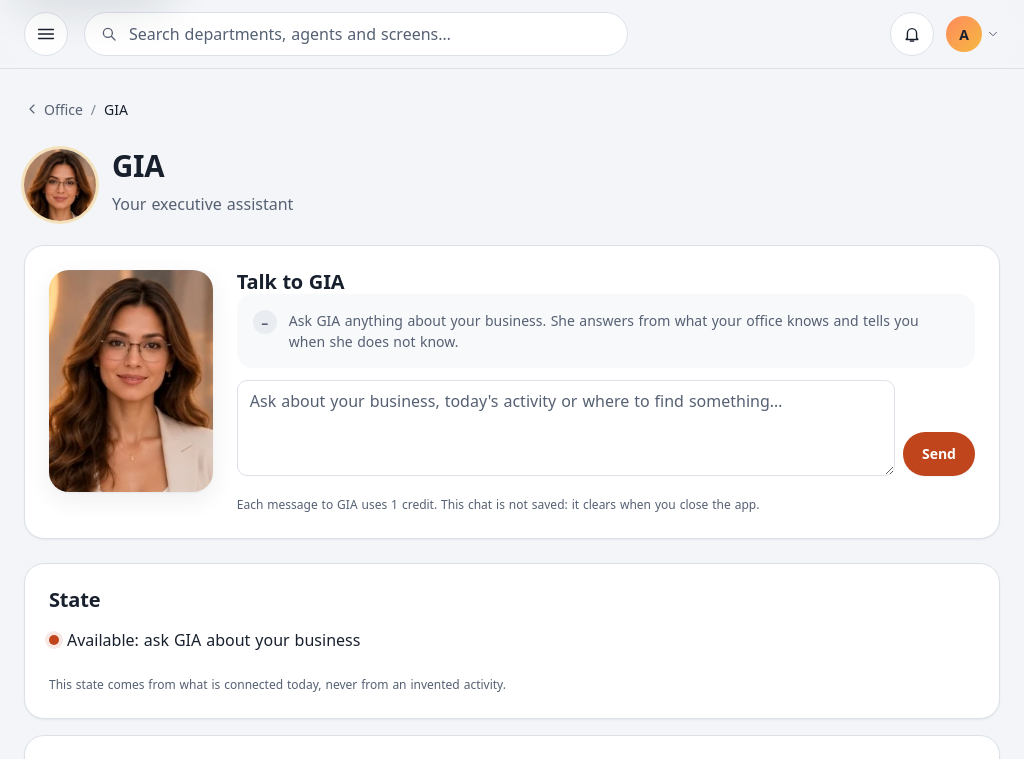
Scenario: GIA shows what to attend to first, as the Decision Engine ranked it › shows nothing when the answer is not about a ranking
The width and height of the screenshot is (1024, 759).
Replace the text in the text box named "Your message to GIA" with "¿Qué debería atender primero hoy?" at [566, 428], box [237,380,895,476]
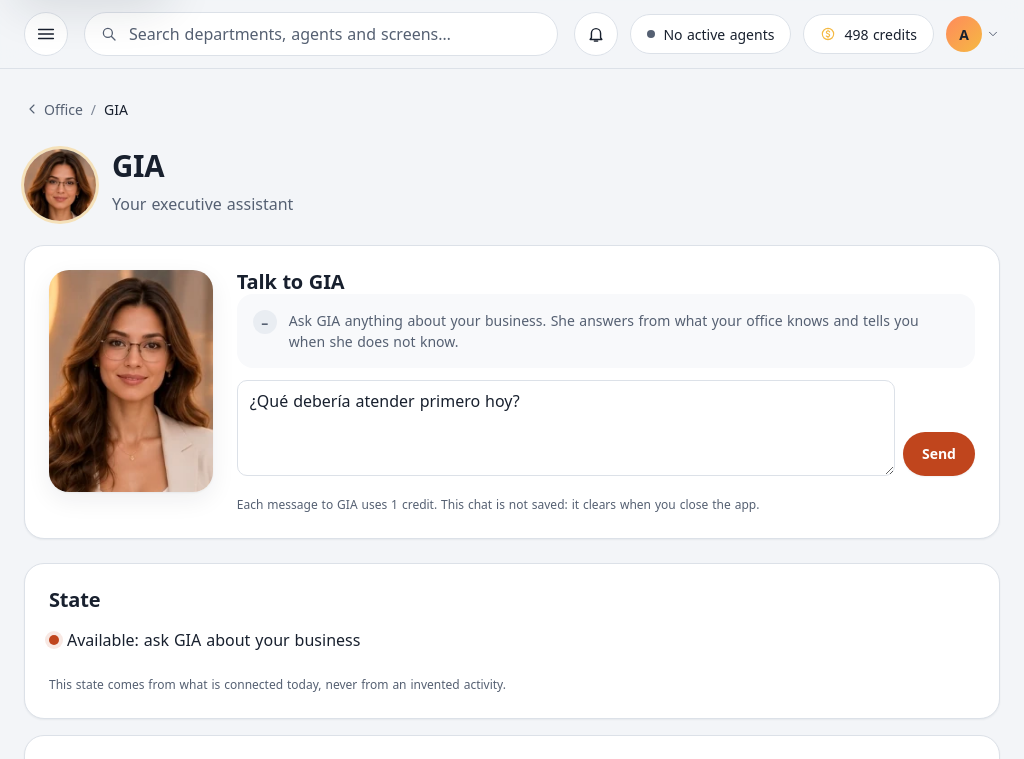
Click the button "Send" at [939, 454], box [903,432,975,476]
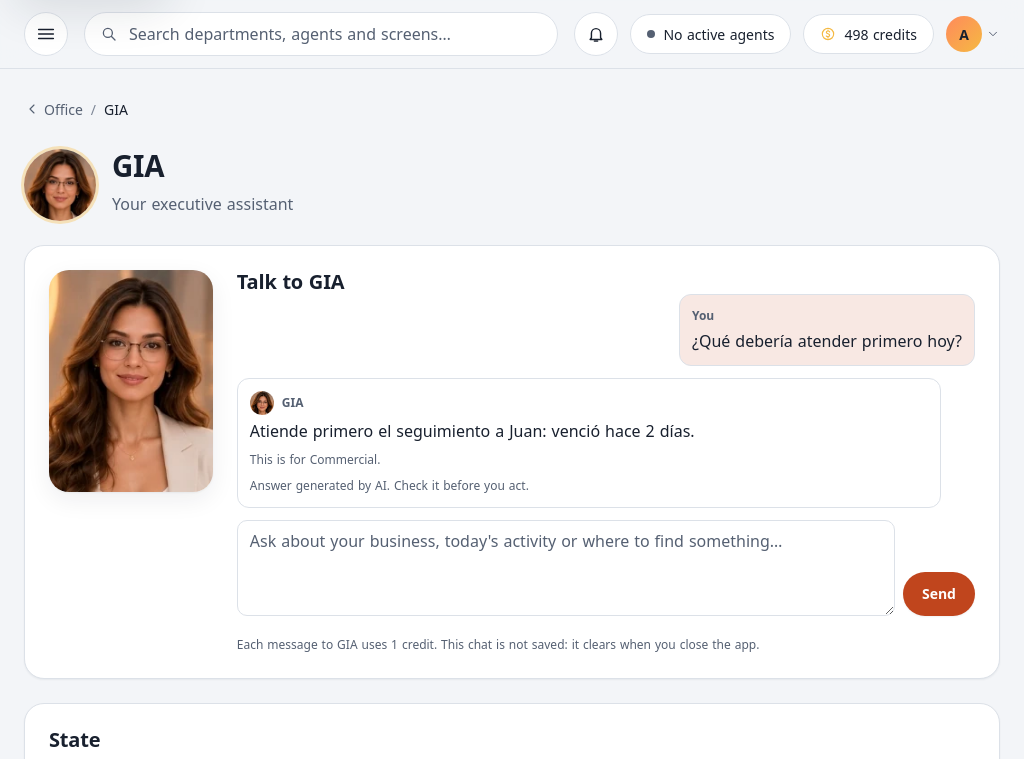
expect the text "Atiende primero el seguimiento a Juan: venció hace 2 días." is shown: met, box [250,420,695,442]
